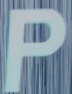Parking: (4, 2, 65, 89)
